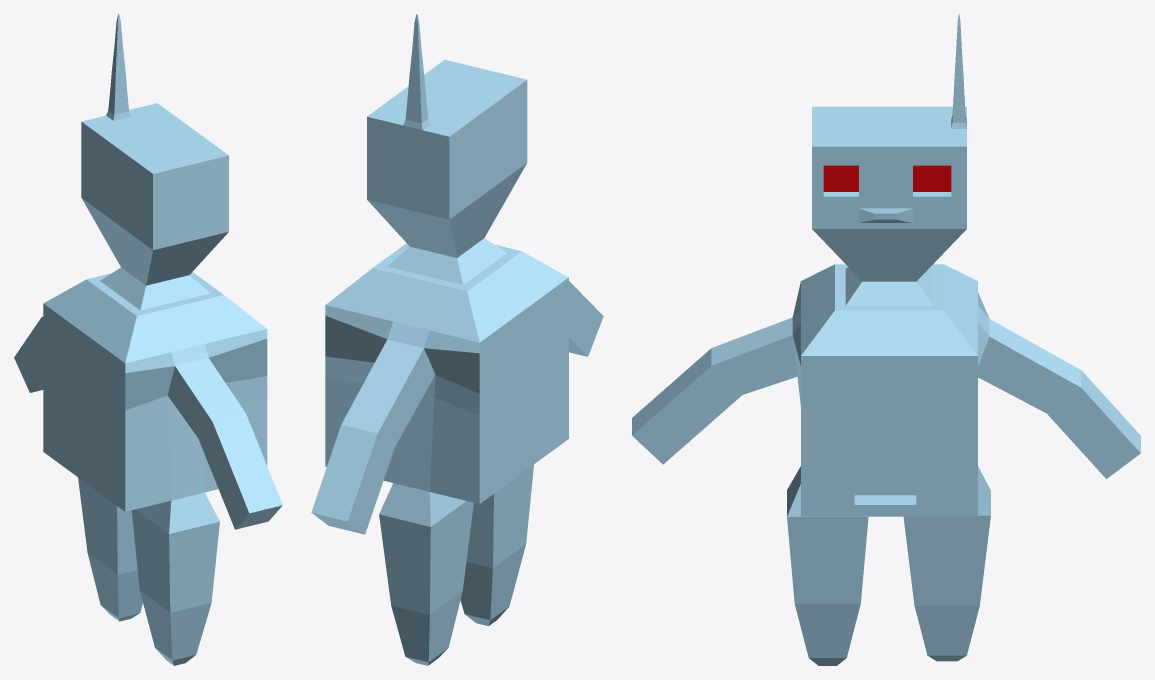
The model's file is RobotFella.fbx.
The picture shows the model from 3 angles, left to right: view 1: azimuth 30°, elevation 25°; view 2: azimuth 150°, elevation 25°; view 3: azimuth 270°, elevation 25°; orthographic projection. The views are drawn at different scales.
Visible parts, largest first — view 1: Cube; view 2: Cube; view 3: Cube.
Part boxes in pixels (x1,y1,x2,y2): Cube: [14, 14, 282, 665]; Cube: [311, 14, 603, 665]; Cube: [632, 14, 1140, 665].
Bounding box in the file's own units: 13.24 × 53.67 × 38.04.
